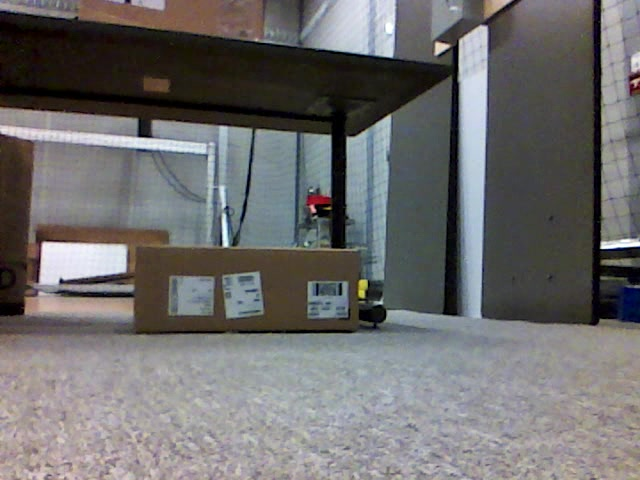box: (134, 247, 358, 330), (79, 1, 265, 39), (1, 134, 34, 317)
